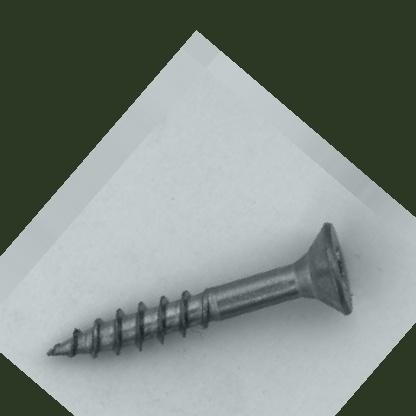metal: (45, 224, 355, 355)
